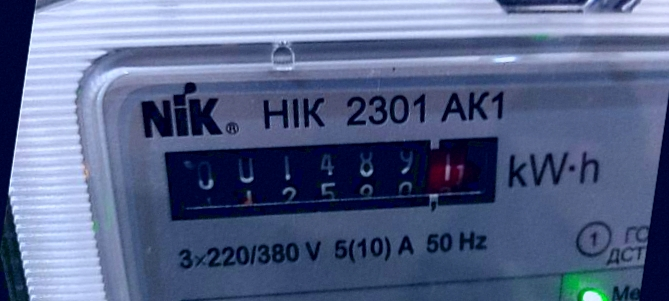0: (230, 148, 261, 187), (190, 156, 219, 194)
1: (435, 145, 459, 185), (275, 150, 299, 183)
4: (314, 145, 340, 179)
8: (354, 143, 380, 182)
9: (394, 143, 418, 177)
screen: (142, 79, 534, 282)
